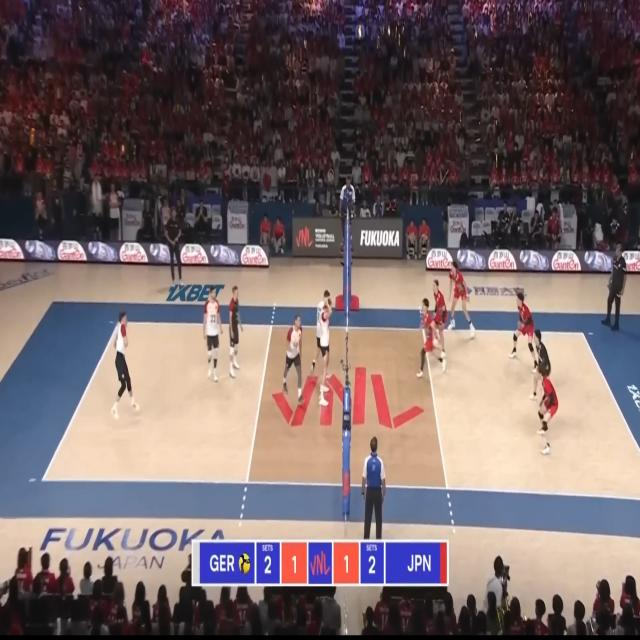ball: (310, 264, 330, 270)
